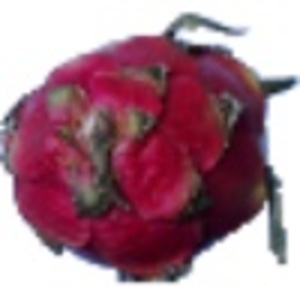pitaia: (1, 12, 300, 284)
